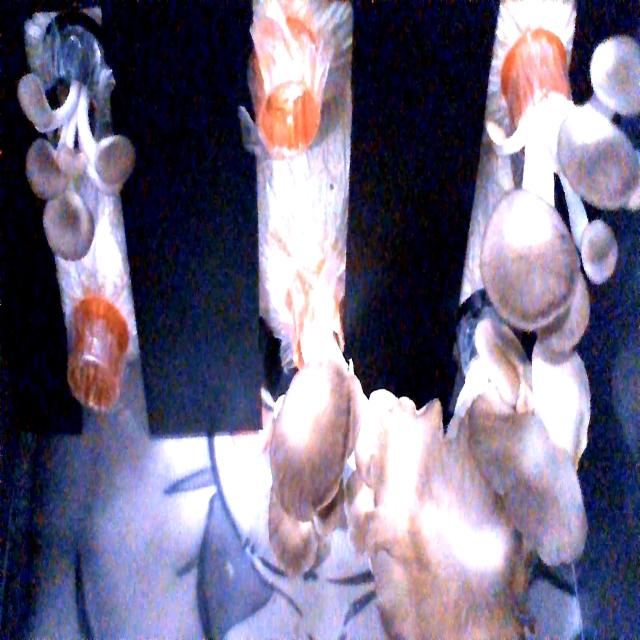big: (388, 327, 597, 640), (478, 27, 640, 373), (252, 331, 361, 578)
nfound: (59, 313, 125, 414), (250, 73, 320, 159)
small: (5, 67, 143, 266)
